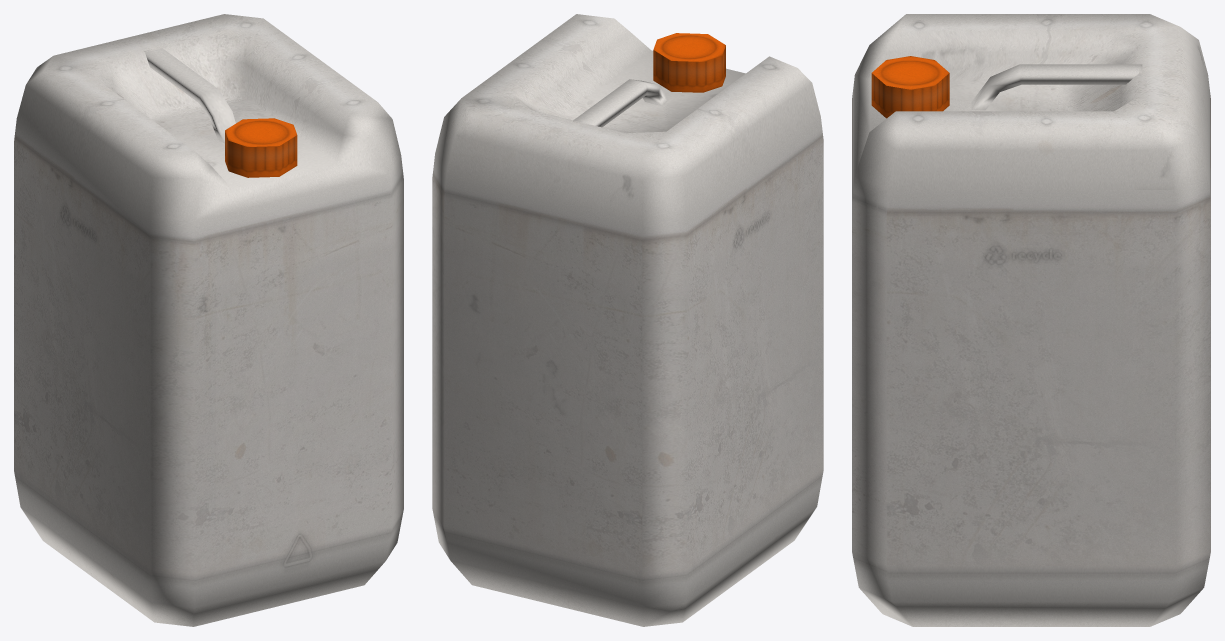
The model's file is ms_jerrycan_plastic_lod1.fbx.
3 views of the same model, side by side, from view 1: azimuth 30°, elevation 25°; view 2: azimuth 150°, elevation 25°; view 3: azimuth 270°, elevation 25° (orthographic). The views are drawn at different scales.
Visible parts, largest first — view 1: ms_jerrycan_plastic_lod1; view 2: ms_jerrycan_plastic_lod1; view 3: ms_jerrycan_plastic_lod1.
Boxes of the visible parts, <box> form: ms_jerrycan_plastic_lod1: <box>14,14,403,626</box>; ms_jerrycan_plastic_lod1: <box>432,14,823,626</box>; ms_jerrycan_plastic_lod1: <box>852,14,1210,626</box>.
Size of the model in its own units: 25.88 by 45.7 by 29.81.
